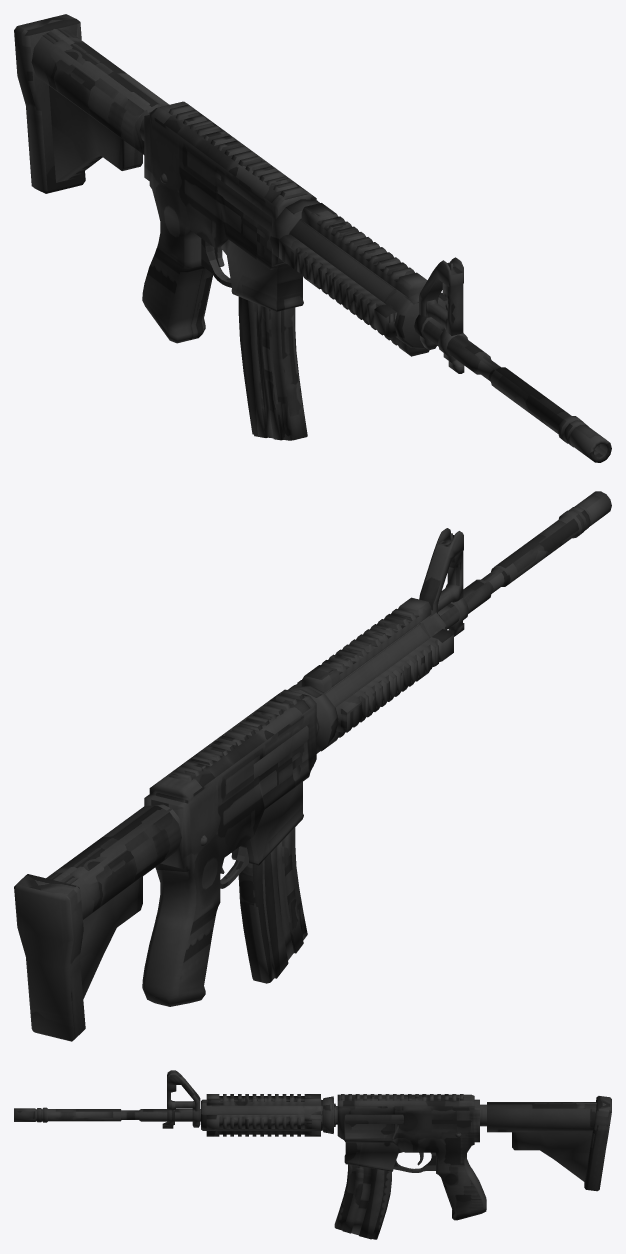
The model's file is easy-weapons-m4.glb.
The picture shows the model from 3 angles, top to bottom: view 1: azimuth 30°, elevation 25°; view 2: azimuth 150°, elevation 25°; view 3: azimuth 270°, elevation 25°; orthographic projection. The views are drawn at different scales.
Visible parts, largest first — view 1: M4, M4_Magazine; view 2: M4, M4_Magazine; view 3: M4, M4_Magazine.
Boxes of the visible parts, <box> form: M4: <box>14,14,611,462</box>; M4_Magazine: <box>238,297,307,440</box>; M4: <box>14,491,611,1041</box>; M4_Magazine: <box>238,827,307,983</box>; M4: <box>14,1070,611,1220</box>; M4_Magazine: <box>334,1164,391,1239</box>.
Size of the model in its own units: 0.0407 by 0.1776 by 0.58.
1 material, 1 textured.
